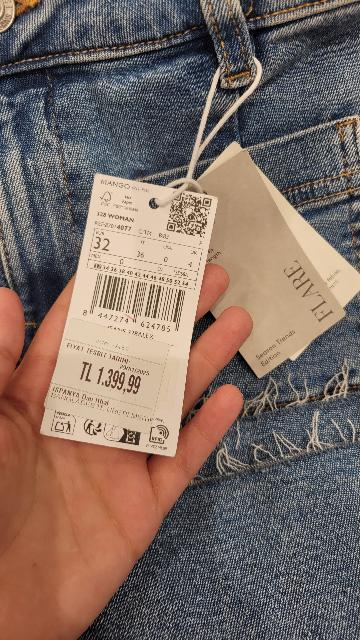Kagit: (36, 176, 214, 449), (162, 150, 360, 378)
